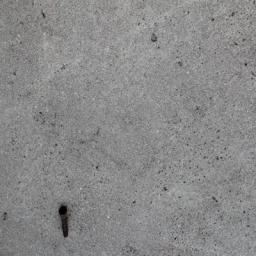FOD: (55, 200, 75, 244)
